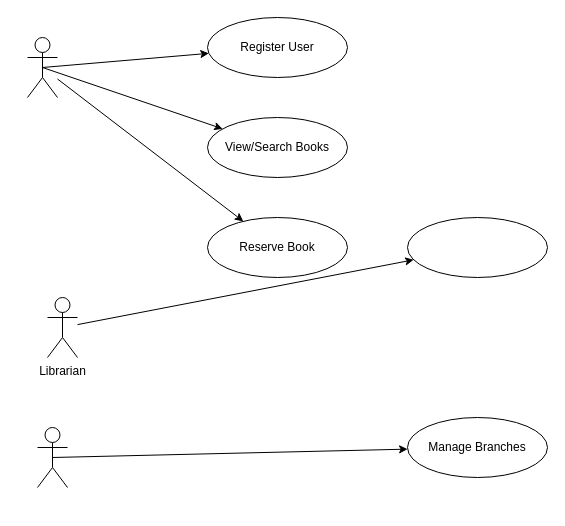
The diagram is 565 pixels wide and 526 high, and some of its shapes have lost their labels. Each missing label, with the box of its shape:
Administrator: (36, 426, 68, 488)
Manage Books: (406, 216, 548, 278)
Reader: (26, 36, 58, 98)
